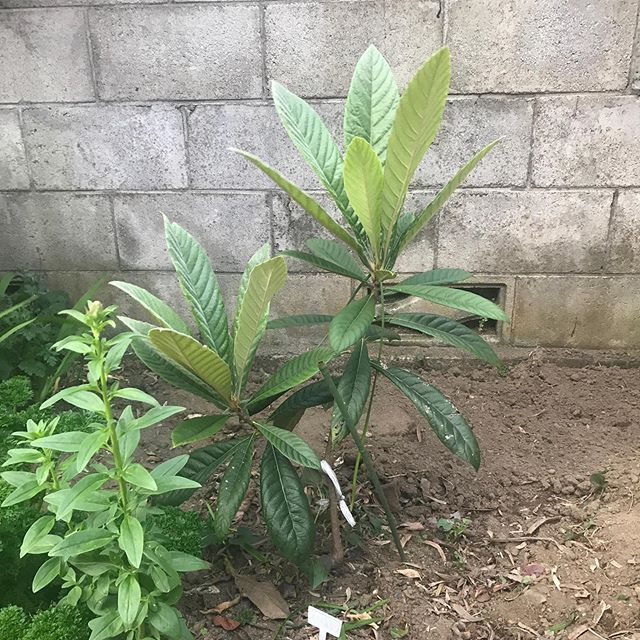vegetation: (1, 73, 497, 640)
